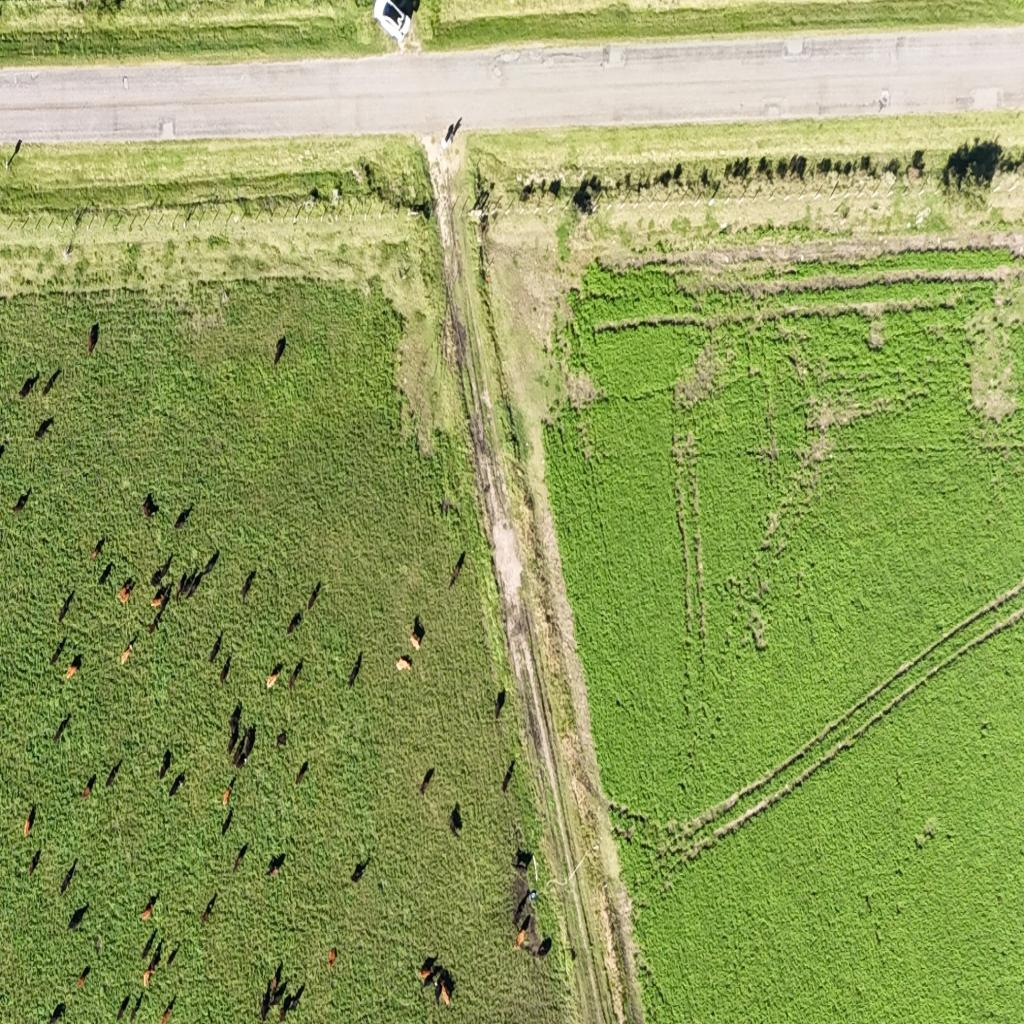cow: (283, 984, 304, 1020), (226, 704, 242, 751), (239, 725, 256, 767), (268, 968, 286, 1007), (60, 858, 78, 895), (436, 973, 454, 1009), (260, 976, 274, 1022), (151, 556, 171, 587), (68, 901, 88, 932), (58, 588, 75, 624), (140, 928, 158, 962), (148, 600, 165, 635), (410, 616, 426, 653), (18, 371, 39, 399), (351, 856, 371, 884), (42, 368, 62, 396), (417, 956, 437, 984), (348, 651, 363, 687), (54, 713, 72, 743), (50, 636, 68, 666), (266, 852, 285, 880), (116, 578, 135, 606), (202, 549, 219, 580), (514, 846, 534, 872), (222, 773, 237, 807), (515, 890, 532, 920), (105, 759, 122, 789), (502, 756, 516, 792), (201, 892, 217, 923), (232, 842, 248, 873), (307, 580, 322, 613), (510, 926, 527, 955), (174, 503, 192, 530), (151, 584, 169, 611), (35, 416, 55, 440), (141, 492, 158, 520), (242, 570, 256, 603), (208, 631, 222, 664), (65, 654, 82, 681), (12, 490, 31, 514), (419, 767, 434, 797), (288, 660, 302, 692), (90, 534, 106, 562), (169, 772, 185, 800), (129, 990, 143, 1022), (98, 561, 114, 588), (159, 997, 175, 1024), (141, 894, 157, 921), (81, 773, 96, 801), (29, 845, 42, 877), (24, 803, 36, 837), (166, 942, 181, 969), (159, 749, 172, 780), (115, 993, 129, 1021), (221, 808, 234, 838), (278, 992, 291, 1022), (88, 322, 100, 354), (450, 802, 462, 834), (495, 688, 506, 722), (48, 1002, 65, 1024), (274, 336, 286, 367), (220, 654, 232, 685), (295, 760, 309, 786), (76, 965, 90, 991), (287, 611, 302, 635), (189, 572, 202, 599), (537, 936, 552, 959), (142, 965, 155, 991), (395, 656, 412, 674), (176, 573, 186, 602), (448, 564, 460, 588), (266, 670, 280, 690), (120, 644, 132, 665), (328, 947, 336, 971), (277, 731, 287, 750)
